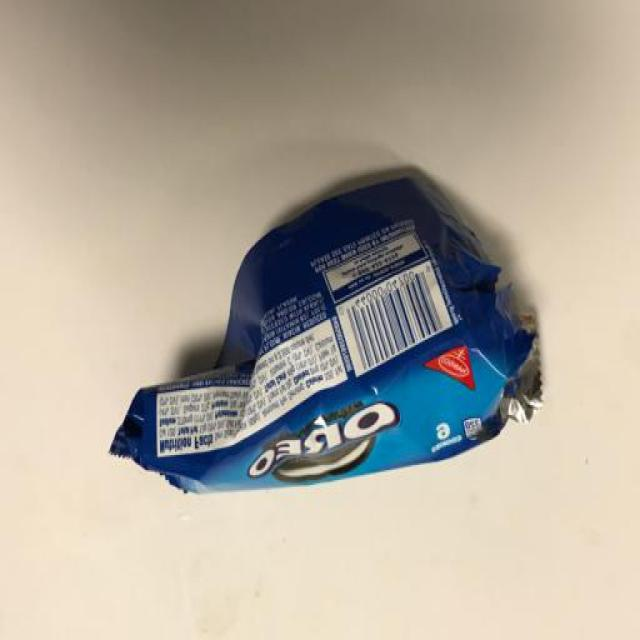Random Trash: (109, 165, 544, 497)
